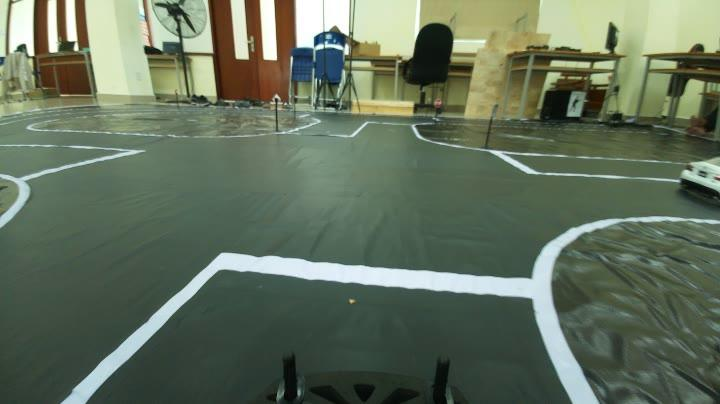car: (670, 151, 718, 205)
